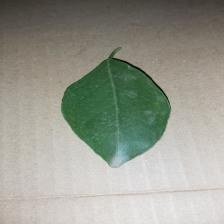healthy: (49, 64, 173, 163)
